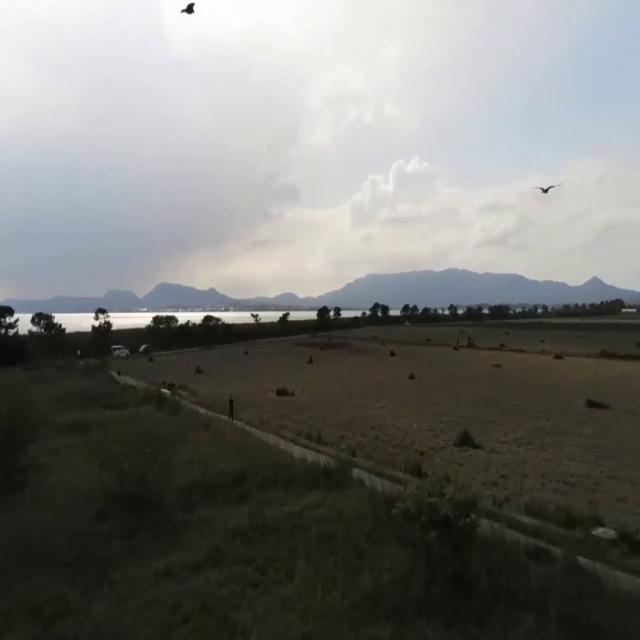bird: (535, 173, 559, 209), (179, 0, 197, 31), (389, 341, 396, 365)
